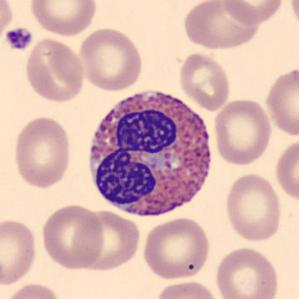Eosinophil: (82, 79, 219, 225)
Platelets: (3, 26, 35, 52)
RBC: (11, 114, 74, 190), (140, 216, 212, 281), (39, 202, 106, 271), (76, 26, 144, 92), (223, 171, 283, 244), (76, 207, 142, 273), (22, 36, 86, 104), (212, 96, 273, 166), (180, 0, 260, 51), (213, 244, 281, 299), (177, 50, 232, 111), (0, 216, 39, 287), (27, 0, 99, 37), (264, 65, 298, 138), (273, 137, 299, 204), (221, 0, 285, 26), (153, 278, 222, 299), (1, 281, 64, 299), (0, 0, 16, 45), (288, 0, 299, 35)
